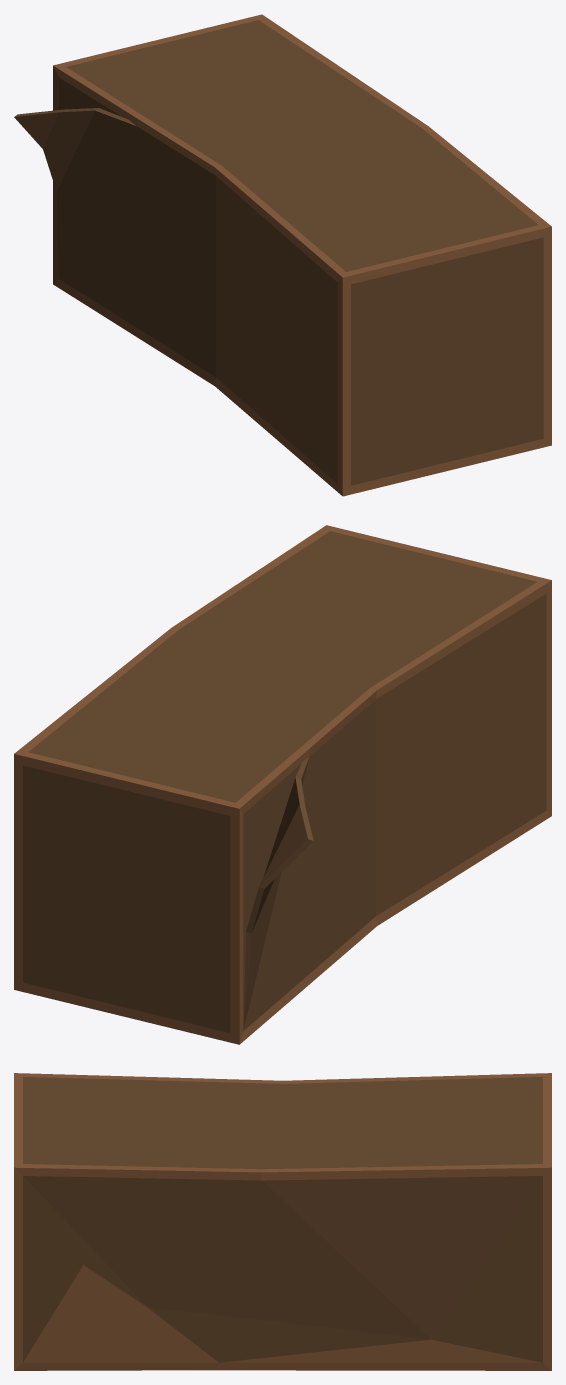
The model's file is apocalypse_cargo-apocalypse-c.fbx.
3 views of the same model, one above another, from view 1: azimuth 30°, elevation 25°; view 2: azimuth 150°, elevation 25°; view 3: azimuth 270°, elevation 25° (orthographic). The views are drawn at different scales.
Parts seen in each view (by area): view 1: apocalypse_cargo_apocalypse_c; view 2: apocalypse_cargo_apocalypse_c; view 3: apocalypse_cargo_apocalypse_c.
Boxes of the visible parts, bbox=[...] form: apocalypse_cargo_apocalypse_c: bbox=[14, 14, 551, 496]; apocalypse_cargo_apocalypse_c: bbox=[14, 525, 551, 1044]; apocalypse_cargo_apocalypse_c: bbox=[14, 1073, 551, 1370].
Bounding box in the file's own units: 109 × 83.33 × 200.
